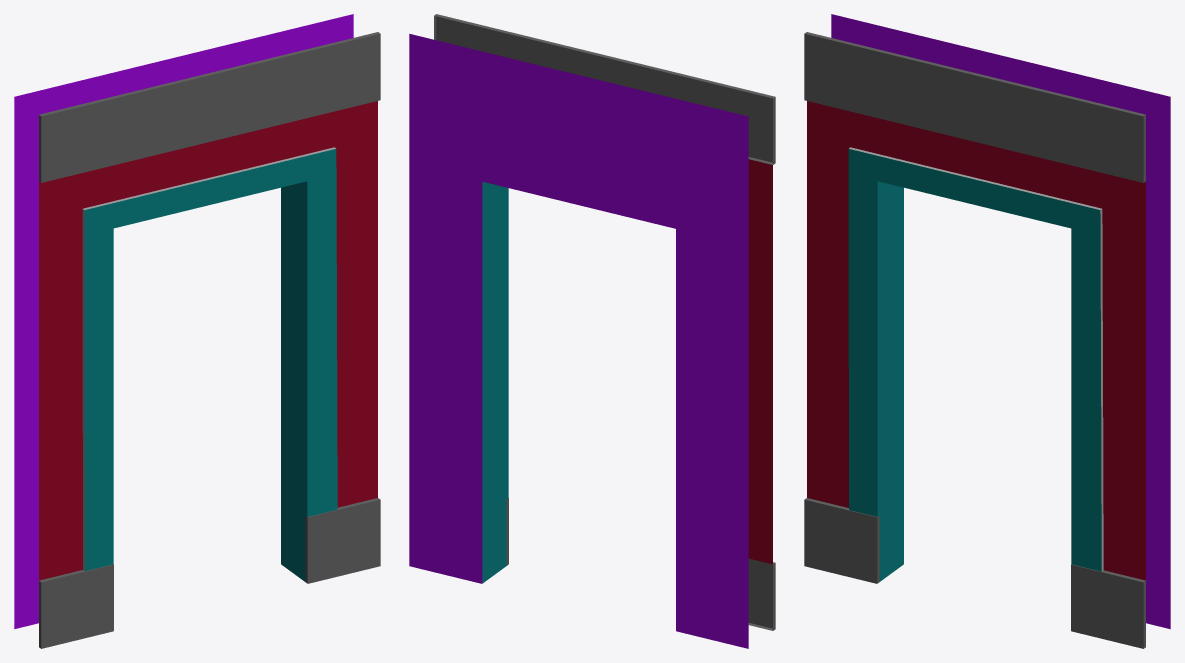
File: Door_Frame_01.fbx
3 renders of one model, left to right at view 1: azimuth 30°, elevation 25°; view 2: azimuth 150°, elevation 25°; view 3: azimuth 330°, elevation 25°, orthographic.
Parts seen in each view (by area): view 1: Door_Frame_01; view 2: Door_Frame_01; view 3: Door_Frame_01.
Boxes of the visible parts, x1,y1,x2,y2 form: Door_Frame_01: (14,14,380,648); Door_Frame_01: (409,14,775,648); Door_Frame_01: (804,14,1170,648).
Bounding box in the file's own units: 2 × 3 × 0.275.
